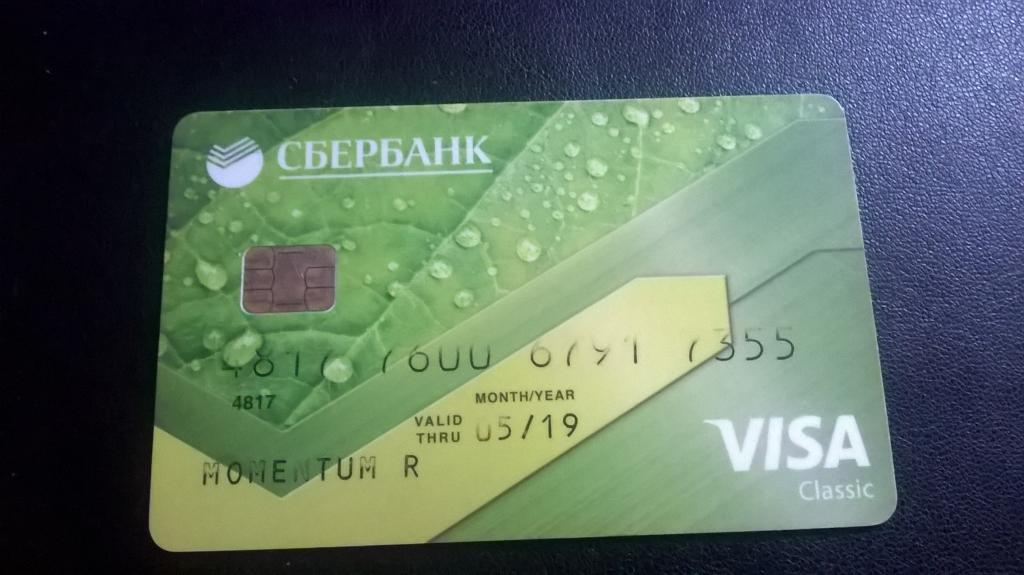card: (146, 91, 901, 552)
